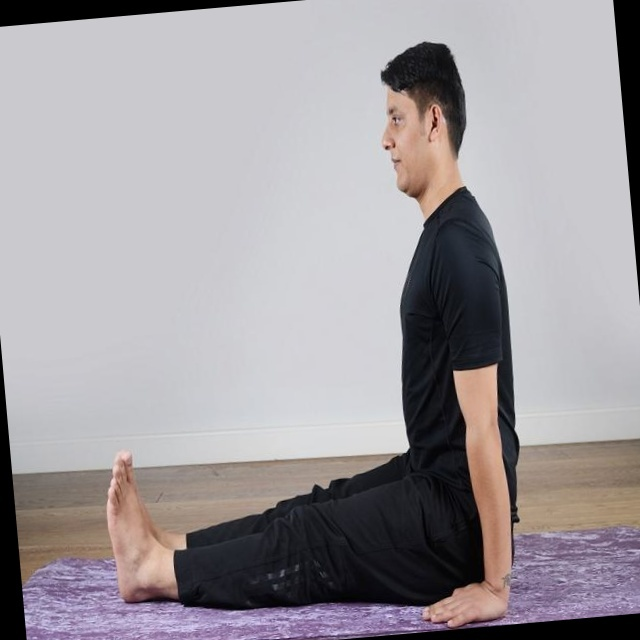Staff_Pose: (103, 39, 522, 630)
